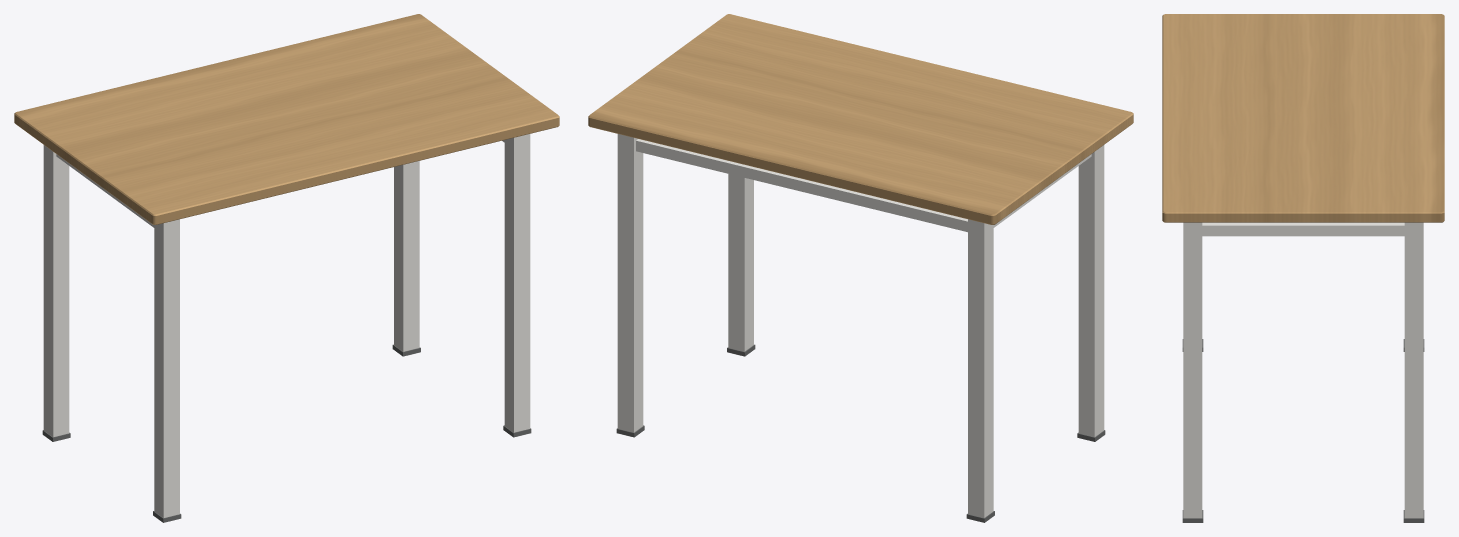
Rendered from desk_basic.glb.
3 views of the same model, side by side, from view 1: azimuth 30°, elevation 25°; view 2: azimuth 150°, elevation 25°; view 3: azimuth 270°, elevation 25° (orthographic).
Parts seen in each view (by area): view 1: oak_desktop_1000x600x25mm, leg_2_2_steel_tube, leg_1_2_steel_tube, leg_1_1_steel_tube, leg_2_1_steel_tube; view 2: oak_desktop_1000x600x25mm, leg_2_1_steel_tube, leg_1_1_steel_tube, leg_1_2_steel_tube, rear_horizontal_stretcher, leg_2_2_steel_tube; view 3: oak_desktop_1000x600x25mm, leg_2_2_steel_tube, leg_2_1_steel_tube, right_side_stretcher.
Part boxes in pixels (x1,y1,x2,y2): oak_desktop_1000x600x25mm: (14,14,559,224); leg_2_2_steel_tube: (504,134,530,432); leg_1_2_steel_tube: (154,219,179,517); leg_1_1_steel_tube: (43,145,69,437); leg_2_1_steel_tube: (394,161,419,351); oak_desktop_1000x600x25mm: (588,14,1133,224); leg_2_1_steel_tube: (617,134,643,432); leg_1_1_steel_tube: (968,219,993,517); leg_1_2_steel_tube: (1078,145,1104,437); rear_horizontal_stretcher: (636,139,991,236); leg_2_2_steel_tube: (728,174,753,351); oak_desktop_1000x600x25mm: (1162,14,1444,222); leg_2_2_steel_tube: (1183,222,1202,518); leg_2_1_steel_tube: (1404,222,1423,518); right_side_stretcher: (1202,222,1404,236).
Bounding box in the file's own units: 1 × 0.75 × 0.6.
Materials: 4 (1 with a texture image).
